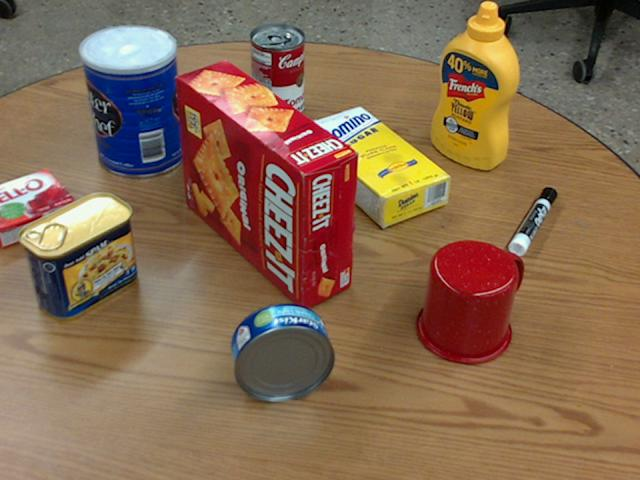cracker_box: (175, 61, 357, 308)
gelatin_box: (0, 168, 76, 245)
large_marker: (509, 187, 557, 256)
master_chef_can: (80, 26, 183, 177)
mug: (415, 239, 522, 363)
mustard_bottle: (431, 3, 519, 169)
potted_meat_can: (18, 191, 135, 317)
sugar_box: (299, 107, 450, 226)
tomato_soup_can: (250, 23, 304, 119)
tuna_fish_can: (231, 303, 335, 400)
